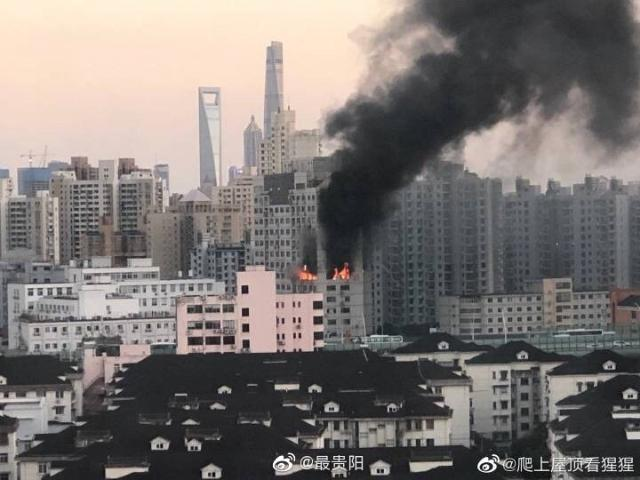fire: (332, 261, 350, 279), (300, 262, 316, 282)
smoke: (317, 1, 640, 285), (295, 227, 316, 274)
